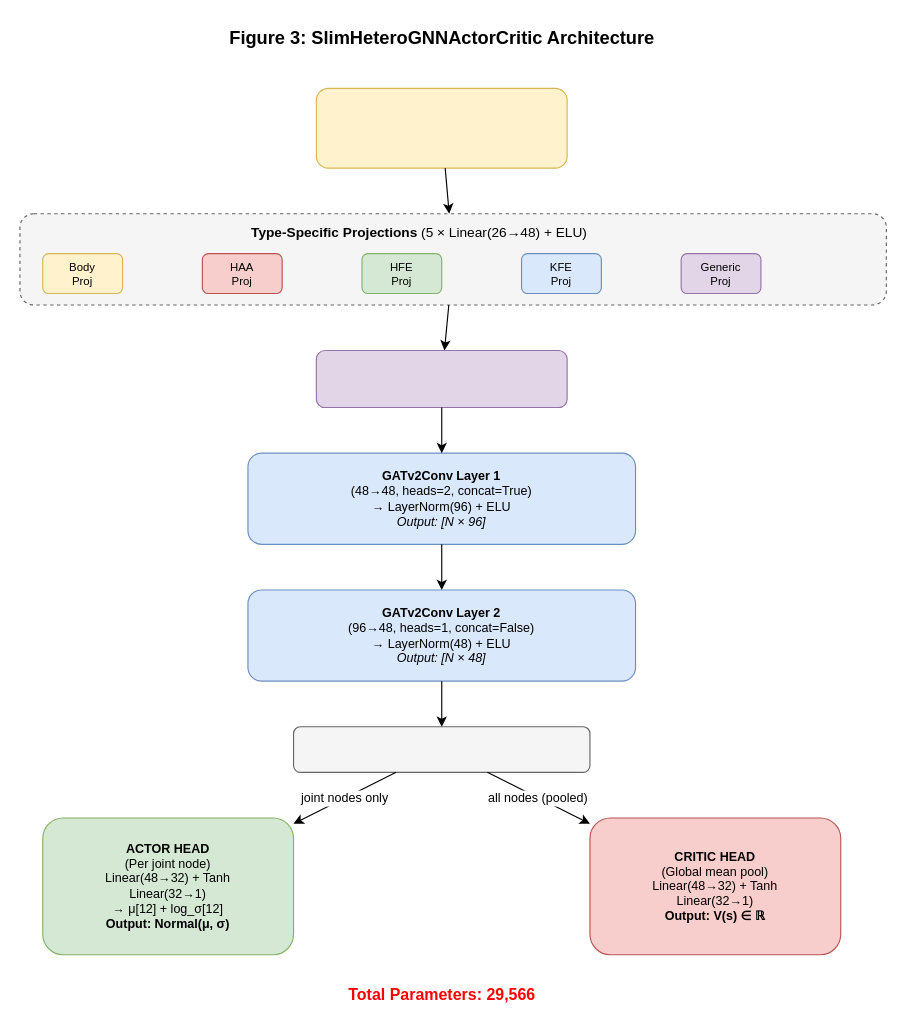
Image size: 906x1031. Some labels were removed from this diagram. The shapes that lost their labels are listed below. From the top down, each one's centre as x and y in pixels, then its label:
At (441,127): "Raw Node Features [N × 26] (static 11 + runtime 15)".
At (441,378): "Projected Features [N × 48]".
At (441,749): "Node Embeddings [N × 48]".
